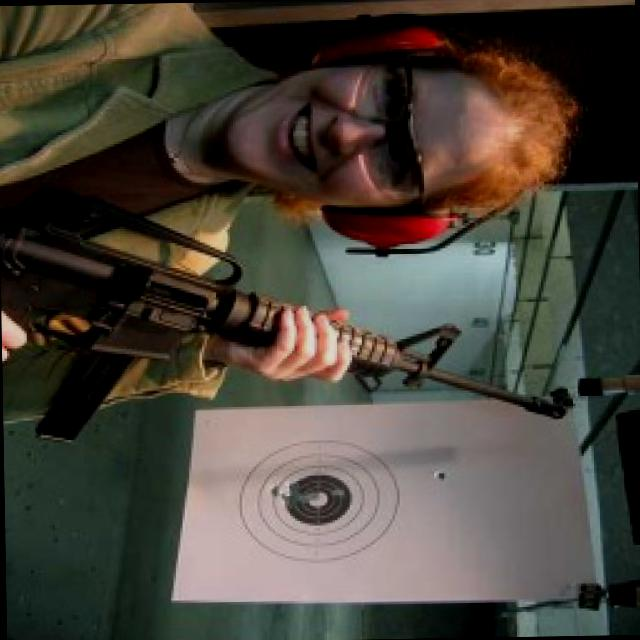long weapon: (0, 191, 575, 478)
